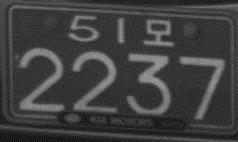1: (108, 16, 134, 43)
2: (17, 46, 66, 112), (71, 49, 119, 114)
3: (125, 51, 172, 118)
5: (68, 14, 99, 43)
7: (177, 54, 227, 120)
모: (142, 18, 175, 47)
